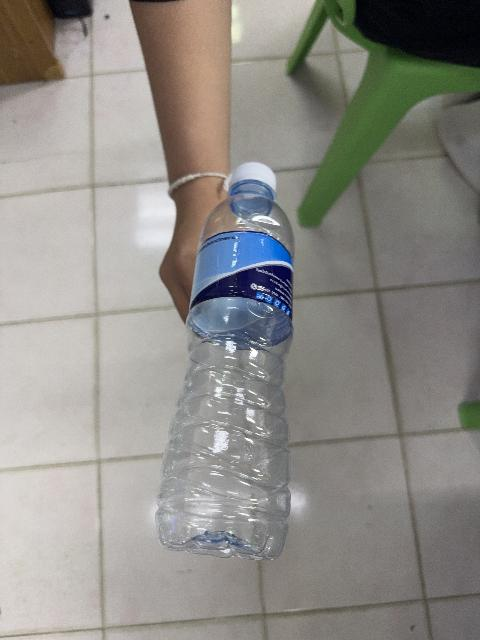bottle: (156, 163, 293, 559)
